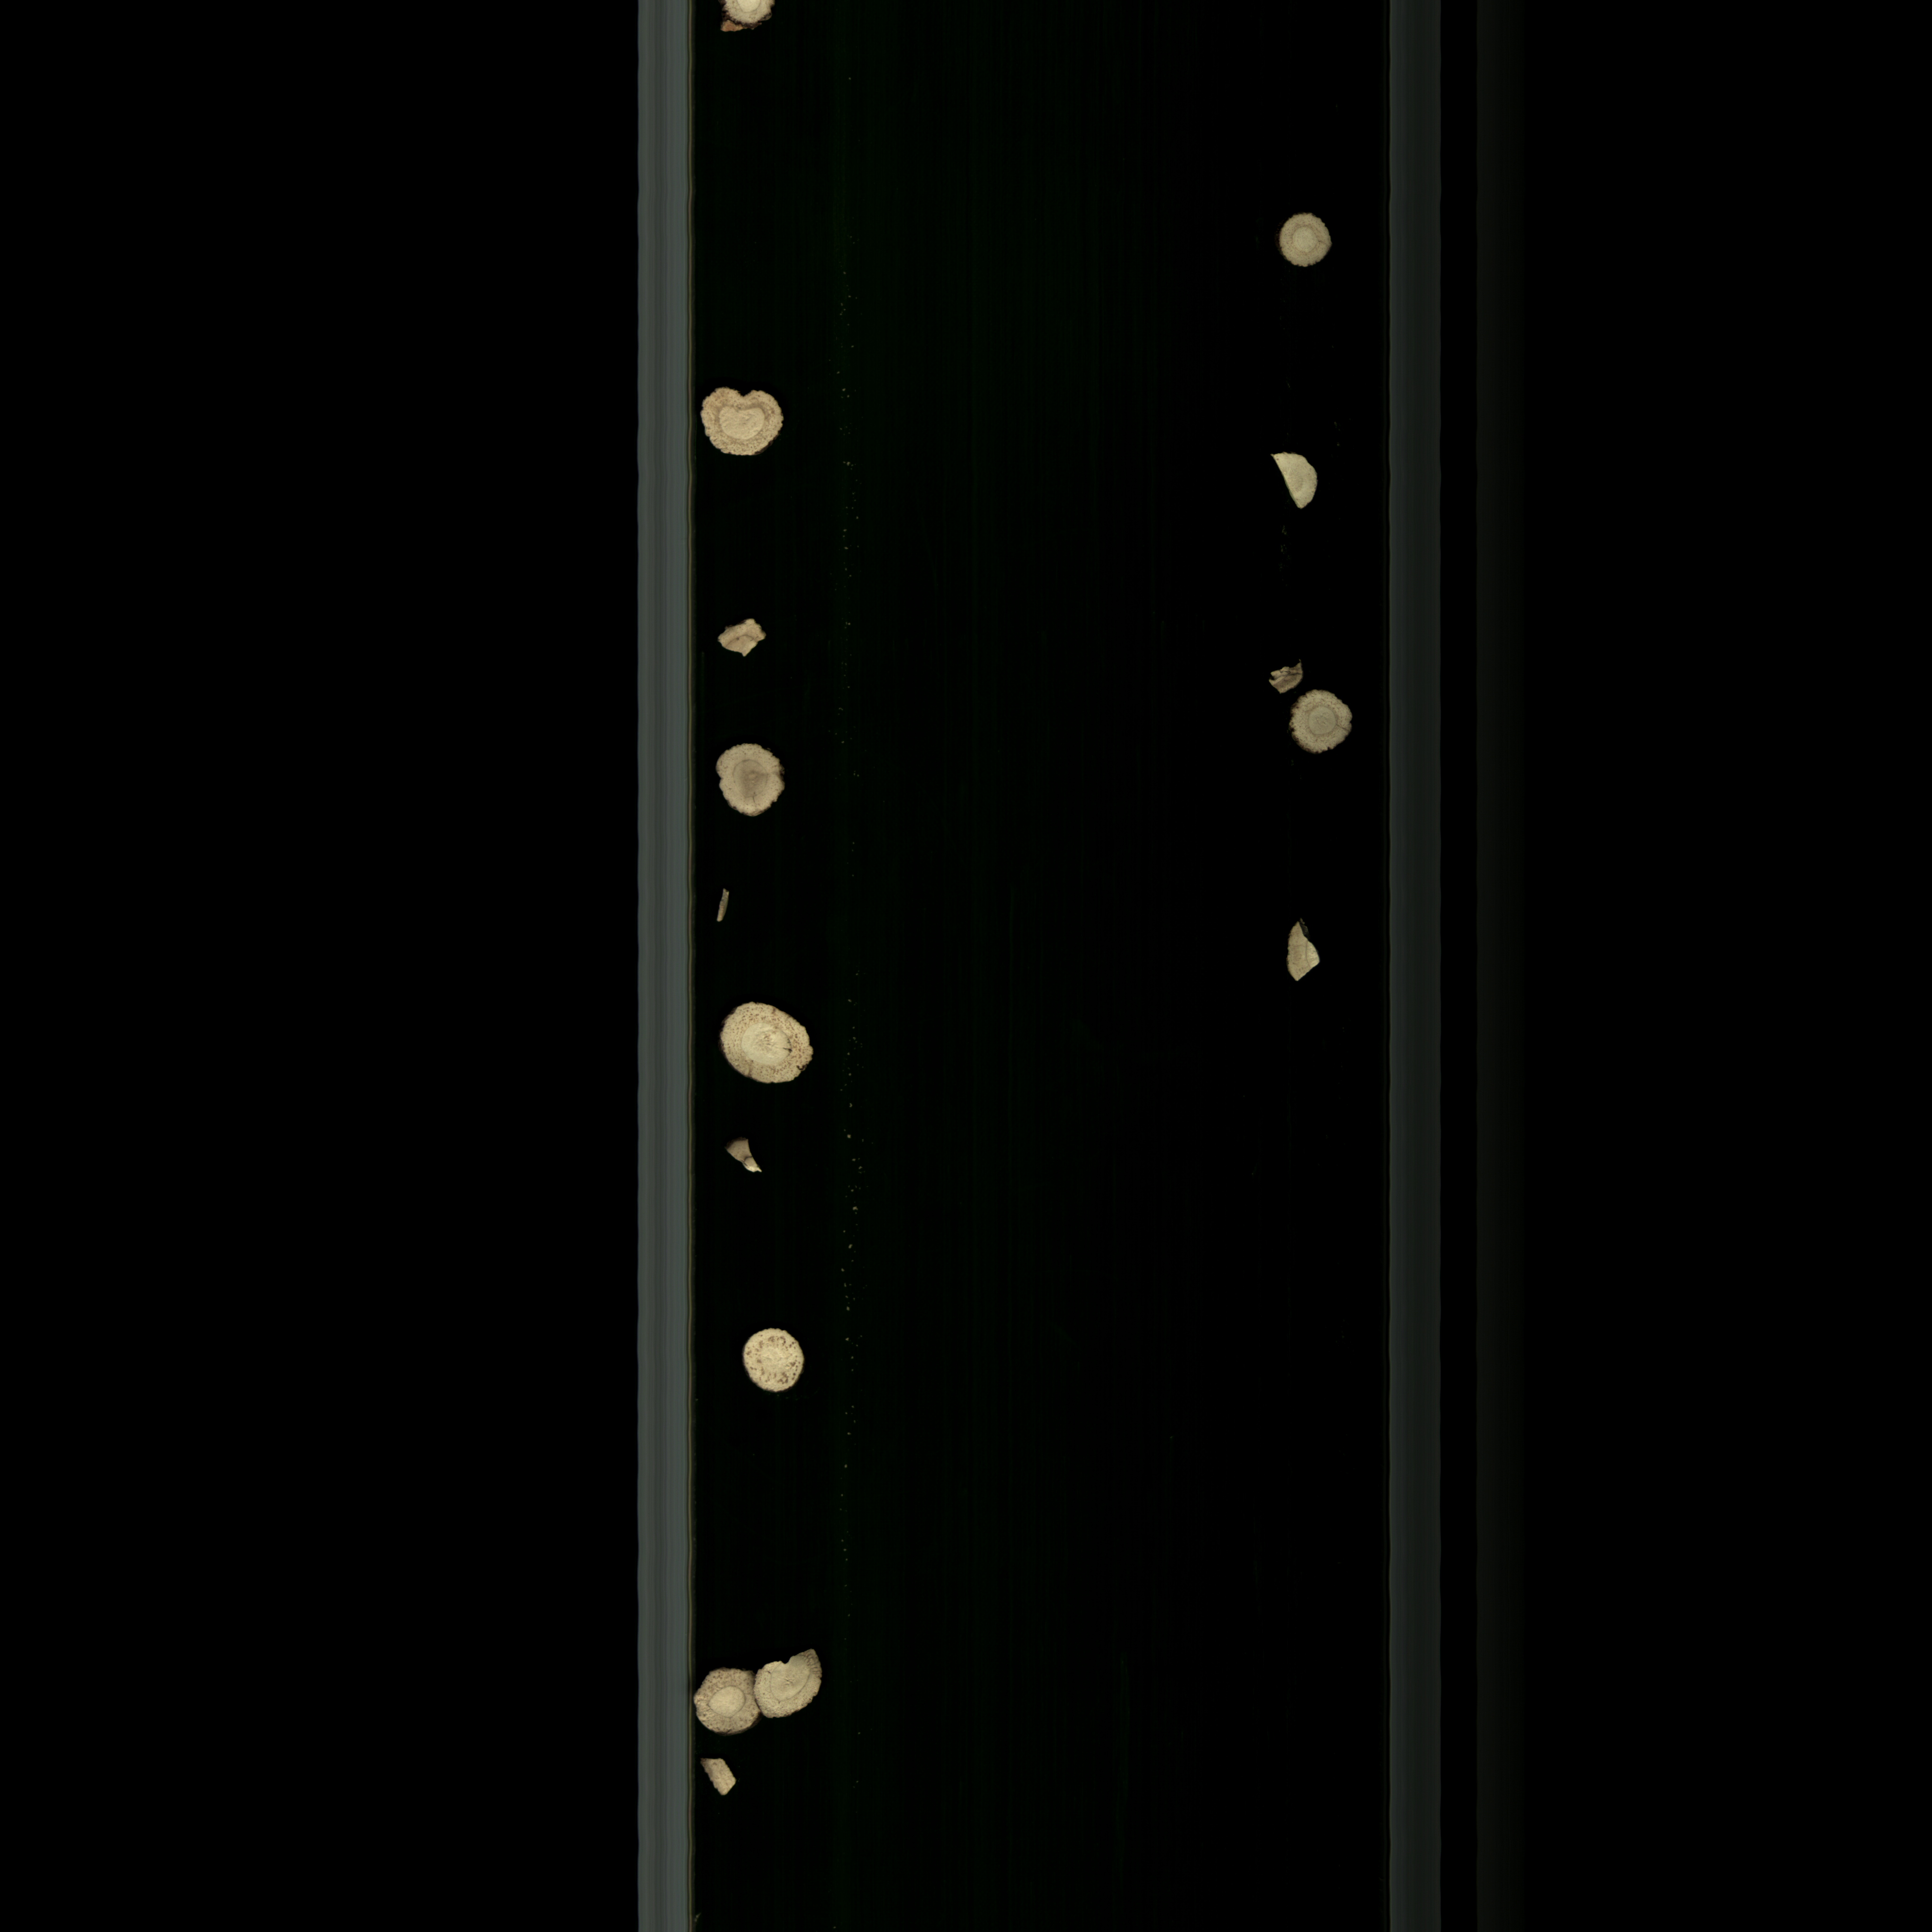debris: (741, 1649, 830, 1723), (1258, 442, 1336, 520)
distortion: (690, 380, 796, 469)
dreg: (702, 614, 791, 662), (1274, 911, 1322, 998), (697, 1752, 750, 1806), (1253, 656, 1306, 697)
moldy: (708, 1127, 777, 1191), (706, 881, 736, 936)
